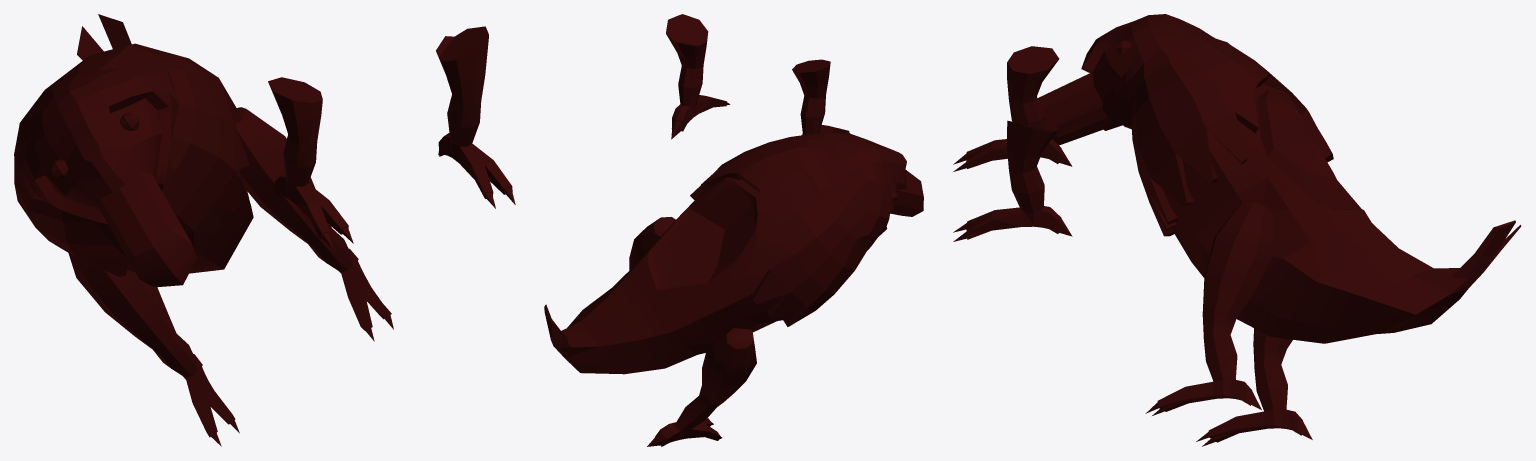
File: depa_brocken.fbx
The picture shows the model from 3 angles, left to right: view 1: azimuth 30°, elevation 25°; view 2: azimuth 150°, elevation 25°; view 3: azimuth 270°, elevation 25°; orthographic projection. The views are drawn at different scales.
Parts seen in each view (by area): view 1: birdfallen_feathers, birdfallen_body, bird_legs; view 2: birdfallen_body, birdfallen_feathers, bird_legs; view 3: birdfallen_body, birdfallen_feathers, bird_legs.
Boxes of the visible parts, x1,y1,x2,y2 form: birdfallen_feathers: [14, 43, 249, 276]; birdfallen_body: [44, 14, 393, 446]; bird_legs: [268, 26, 515, 249]; birdfallen_body: [544, 170, 923, 446]; birdfallen_feathers: [690, 132, 906, 326]; bird_legs: [666, 14, 849, 139]; birdfallen_body: [1038, 37, 1521, 446]; birdfallen_feathers: [1081, 14, 1333, 236]; bird_legs: [953, 46, 1072, 241].
Size of the model in its own units: 3.84 by 4.43 by 5.82.
